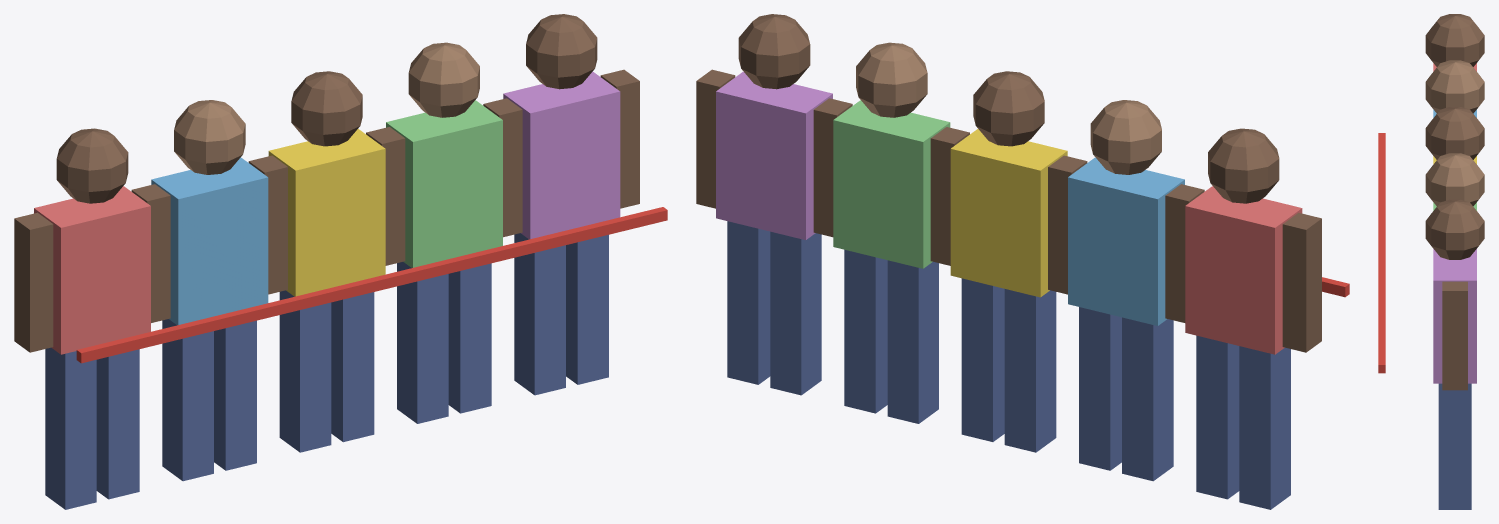
File: PR_RegistrationQueue.glb
3 renders of one model, left to right at view 1: azimuth 30°, elevation 25°; view 2: azimuth 150°, elevation 25°; view 3: azimuth 270°, elevation 25°, orthographic. The views are drawn at different scales.
Visible parts, largest first — view 1: PR_RegistrationQueue; view 2: PR_RegistrationQueue; view 3: PR_RegistrationQueue.
Part boxes in pixels (x1,y1,x2,y2): PR_RegistrationQueue: [14, 14, 667, 509]; PR_RegistrationQueue: [696, 14, 1349, 509]; PR_RegistrationQueue: [1378, 14, 1484, 509].
Bounding box in the file's own units: 3.12 × 1.77 × 0.5817.
